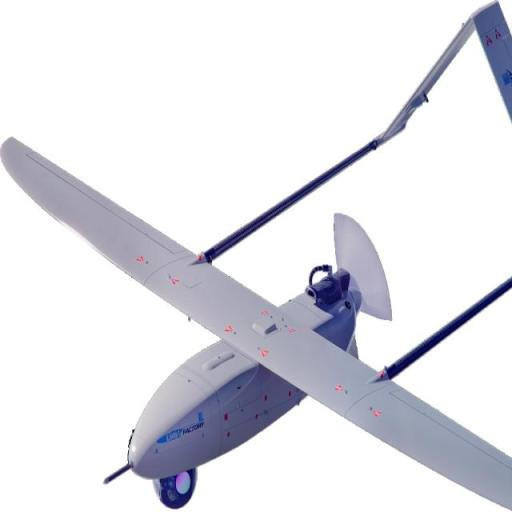uav: (11, 3, 512, 512)
